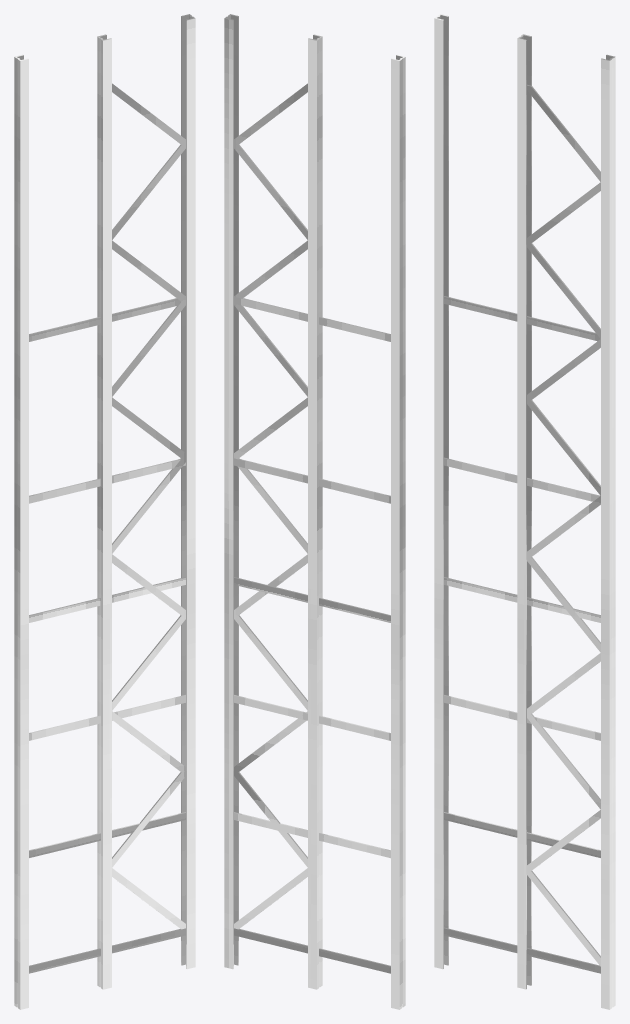
File: StorageRackWideBeams.glb
3 views of the same model, side by side, from view 1: azimuth 30°, elevation 25°; view 2: azimuth 150°, elevation 25°; view 3: azimuth 330°, elevation 25° (orthographic).
Visible parts, largest first — view 1: StorageRackWideBeams; view 2: StorageRackWideBeams; view 3: StorageRackWideBeams.
Boxes of the visible parts, bbox=[...] form: StorageRackWideBeams: bbox=[14, 14, 195, 1009]; StorageRackWideBeams: bbox=[224, 14, 405, 1009]; StorageRackWideBeams: bbox=[434, 14, 615, 1009].
Bounding box in the file's own units: 1.16 × 6 × 0.0683.
Materials: 1 (1 with a texture image).
